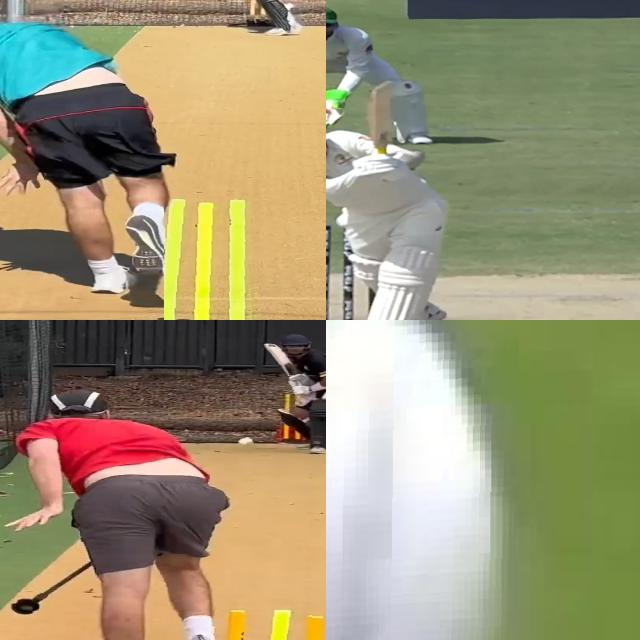Cricket ball: (326, 320, 520, 640), (237, 437, 254, 447)
Stumps: (163, 197, 260, 320)
